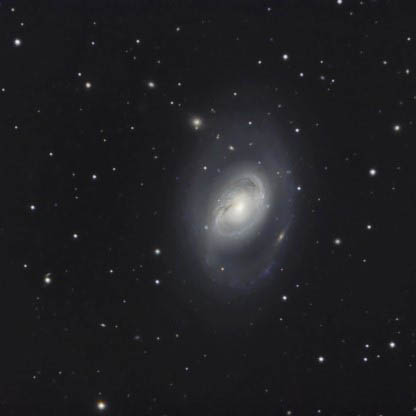Messier 96: (173, 113, 316, 305)
